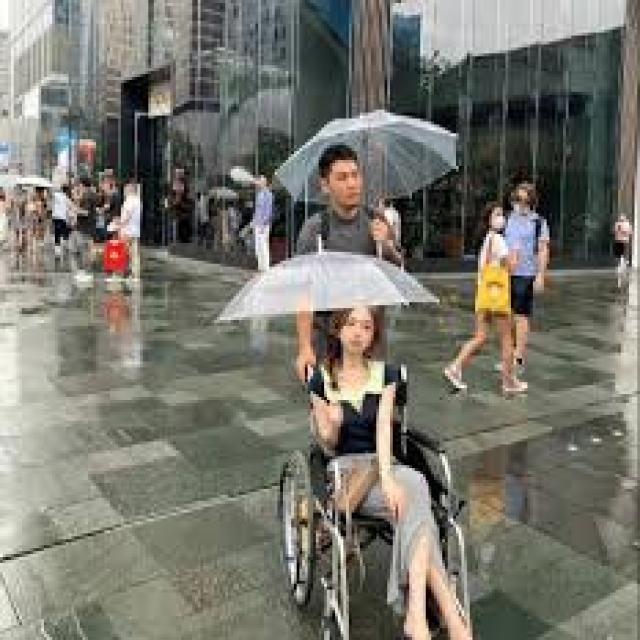wheelchairs: (277, 362, 483, 637)
